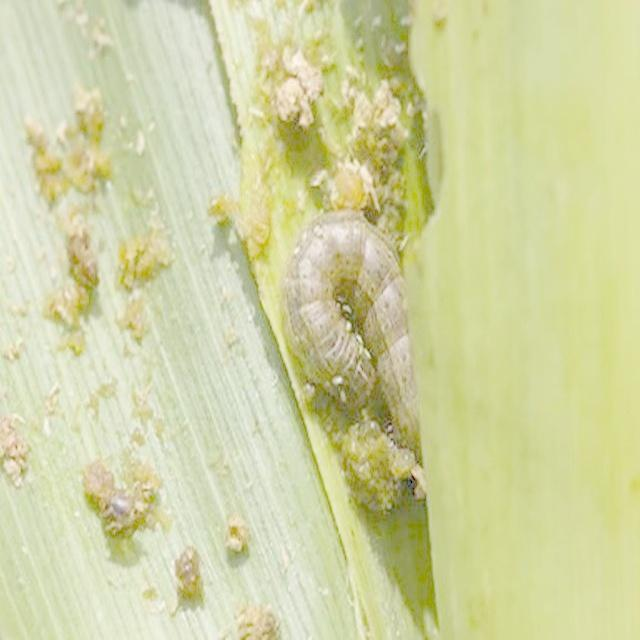gusano_cogollero: (276, 206, 420, 456)
